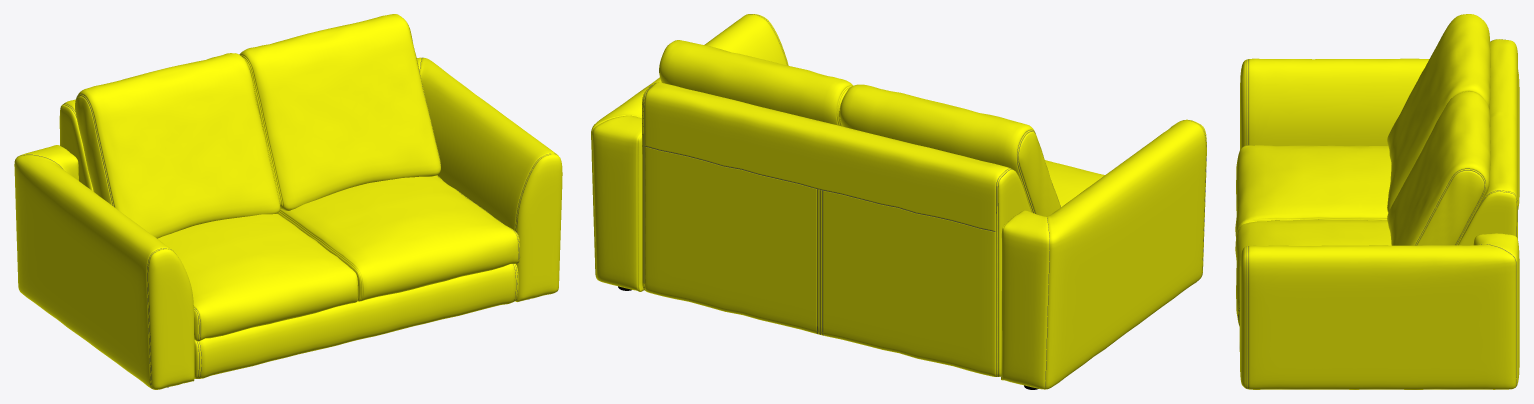
3 renders of one model, left to right at view 1: azimuth 30°, elevation 25°; view 2: azimuth 150°, elevation 25°; view 3: azimuth 270°, elevation 25°, orthographic. The views are drawn at different scales.
Visible parts, largest first — view 1: bodymiddlegray13, armleft13, arnright13; view 2: bodymiddlegray13, armleft13, arnright13; view 3: arnright13, bodymiddlegray13, armleft13.
Part boxes in pixels (x1=…): bodymiddlegray13: x1=59, y1=14, x2=520, y2=378; armleft13: x1=14, y1=145, x2=194, y2=389; arnright13: x1=417, y1=57, x2=562, y2=301; bodymiddlegray13: x1=642, y1=40, x2=1104, y2=376; armleft13: x1=1001, y1=119, x2=1206, y2=389; arnright13: x1=591, y1=14, x2=788, y2=291; arnright13: x1=1240, y1=233, x2=1519, y2=389; bodymiddlegray13: x1=1235, y1=14, x2=1517, y2=351; armleft13: x1=1240, y1=58, x2=1519, y2=209.
Bounding box in the file's own units: 1.57 × 0.7696 × 0.9372.
7 materials, 5 textured.
